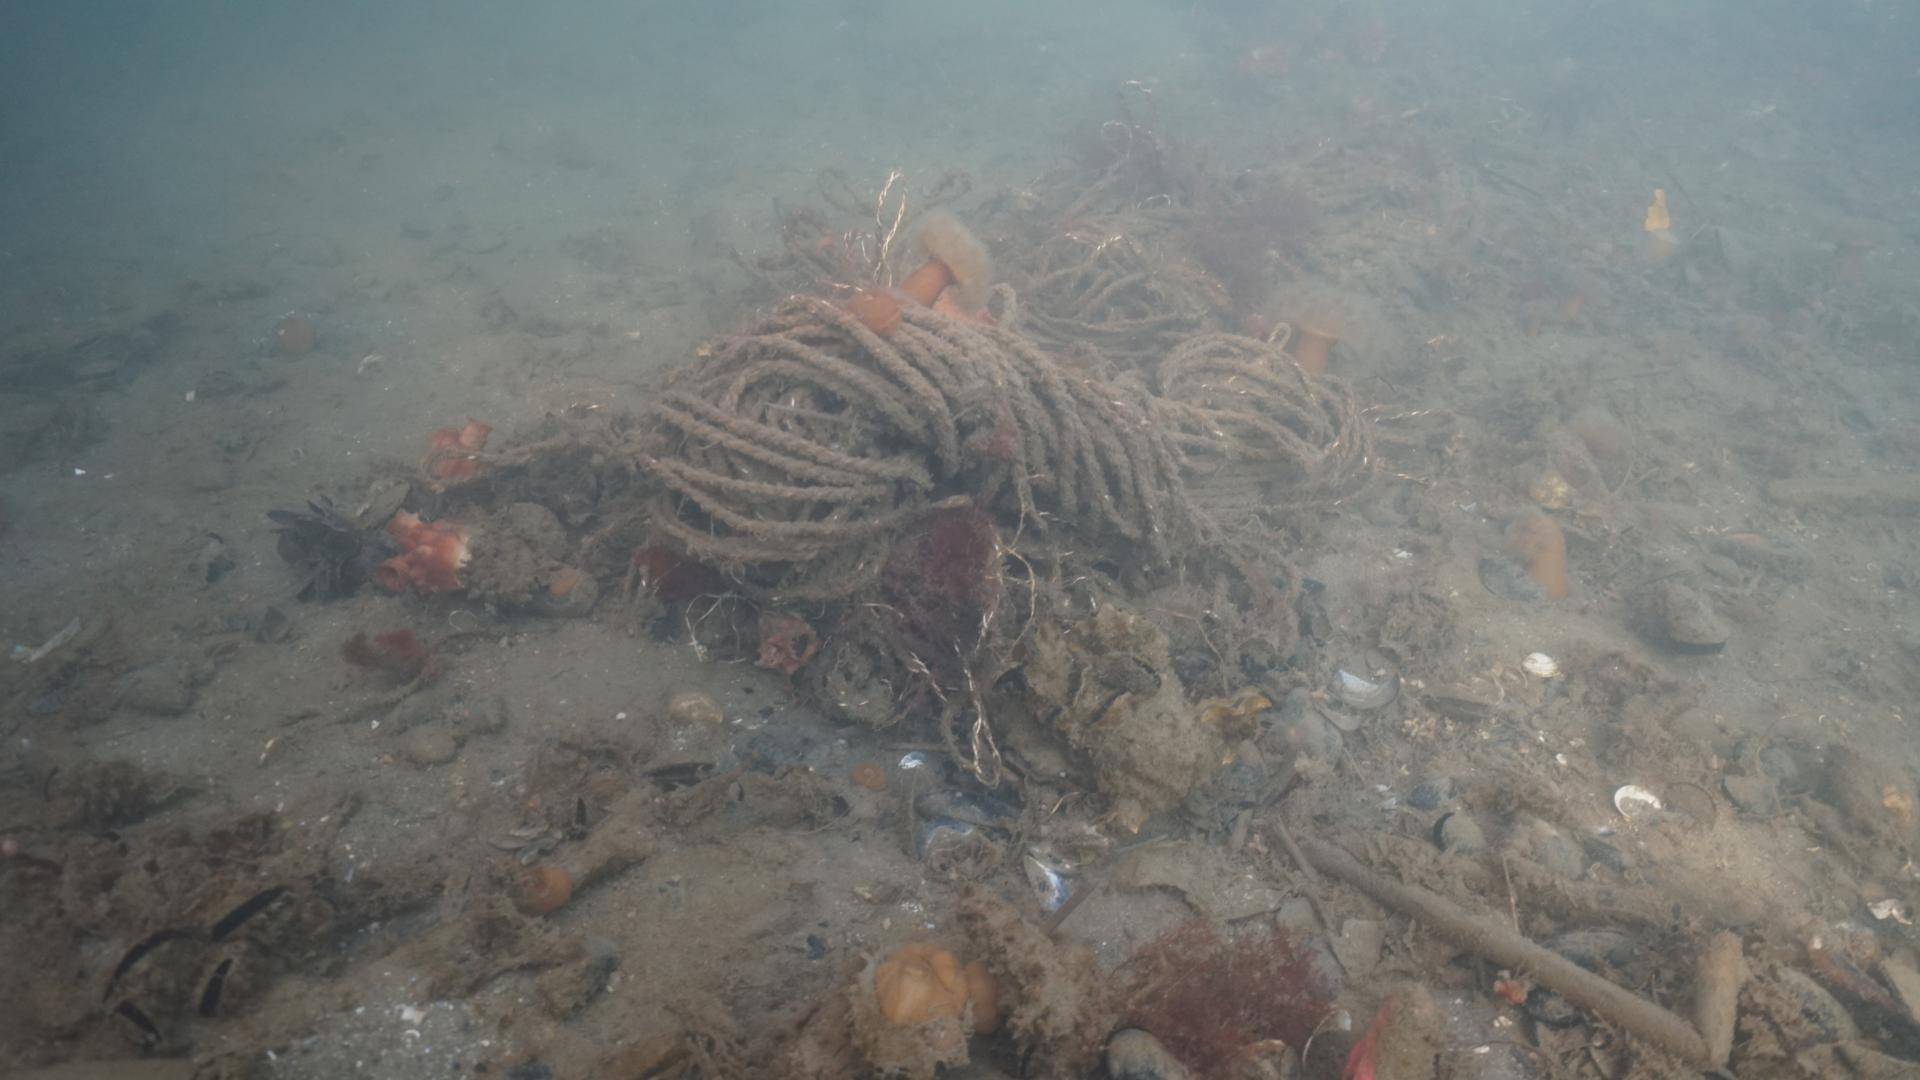bundle of ropes: (269, 115, 1390, 796)
